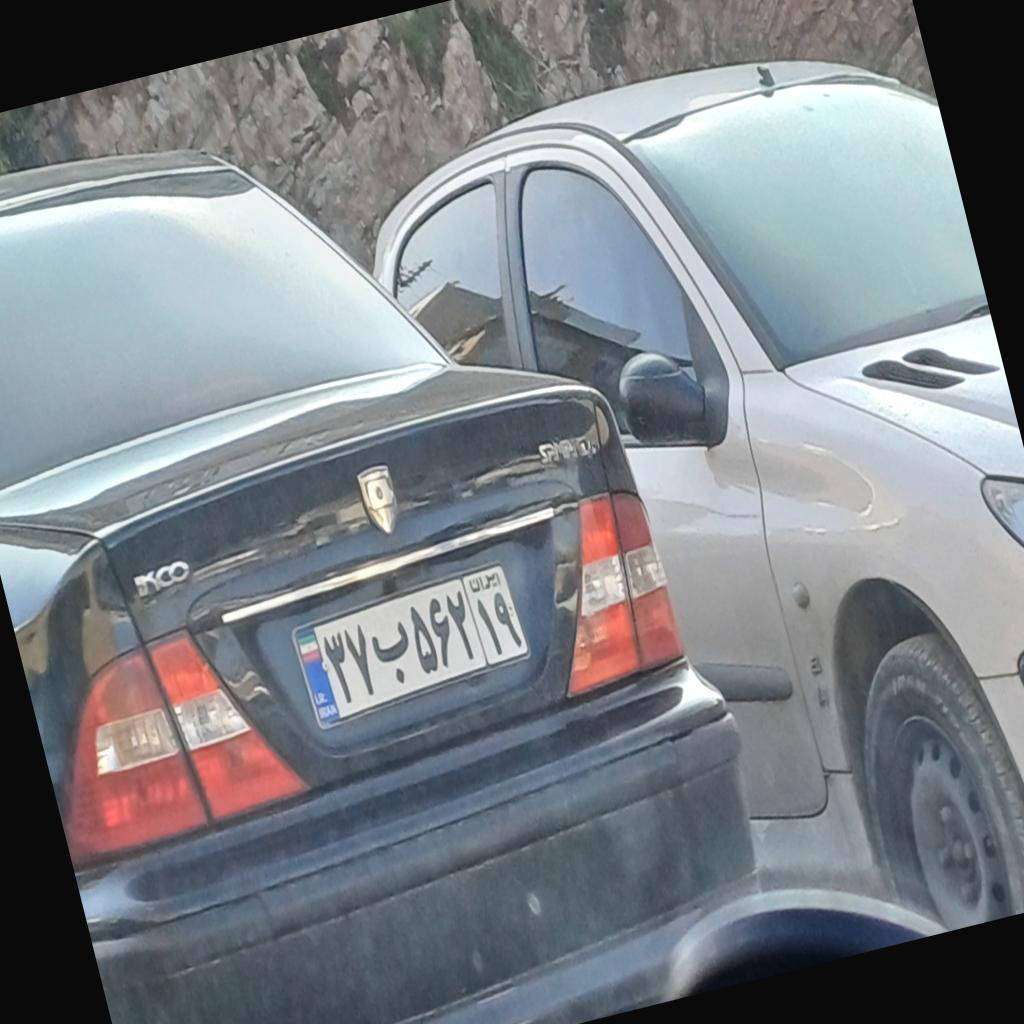Plates: (289, 562, 534, 731)
